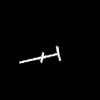double_crochet: (20, 46, 59, 62)
